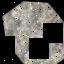Purslane: (0, 1, 63, 64)
